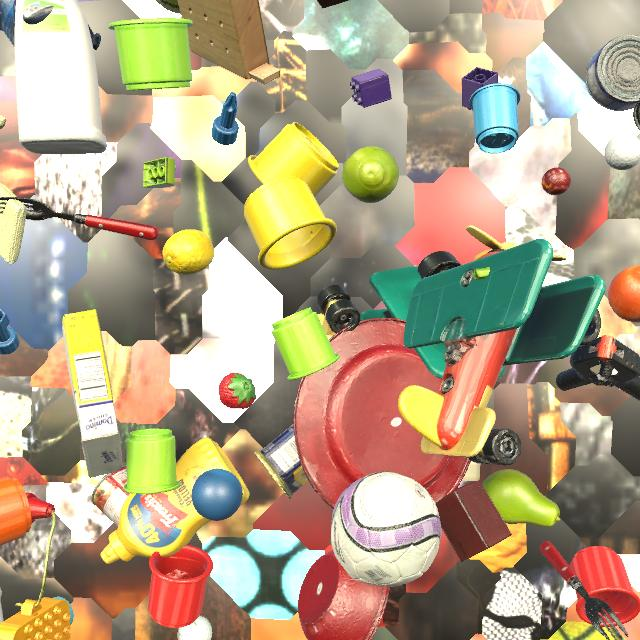ycb_002_master_chef_can: (633, 98, 640, 131)
ycb_004_sugar_box: (62, 310, 123, 478)
ycb_005_tomato_soup_can: (92, 465, 130, 527)
ycb_006_mustard_bottle: (101, 437, 250, 564)
ycb_007_tuna_fish_can: (585, 35, 640, 111)
ycb_010_potted_meat_can: (254, 424, 309, 499)
ycb_011_banana: (473, 249, 493, 280)
ycb_012_strawberry: (218, 372, 256, 409)
ycb_014_lemon: (162, 229, 214, 275)
ycb_016_pear: (482, 469, 561, 527), (342, 146, 399, 203)
ycb_017_orange: (608, 265, 640, 323)
